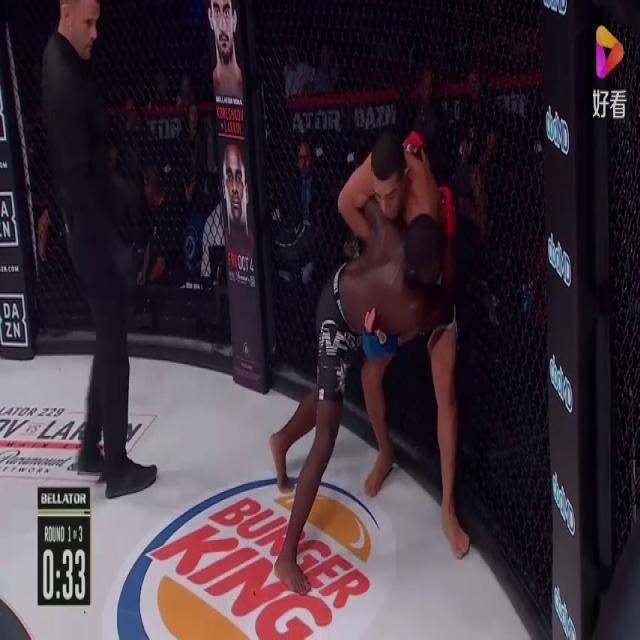fight: (265, 113, 478, 603)
non-fight: (38, 0, 159, 493)
